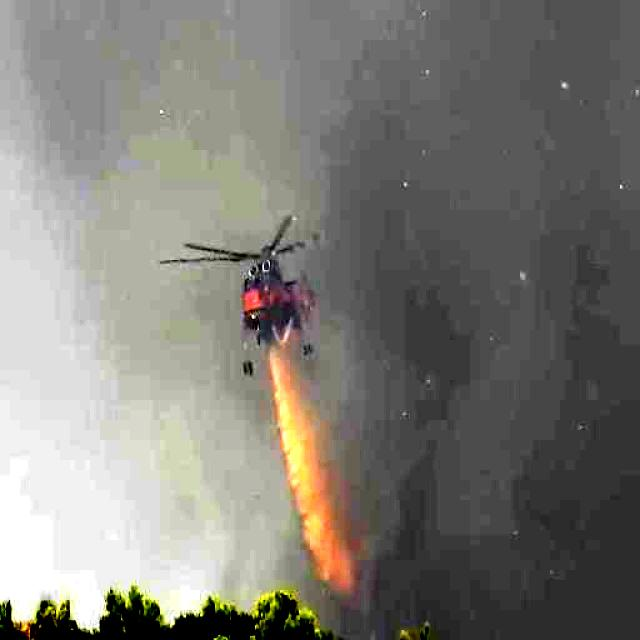drone: (178, 214, 320, 380)
